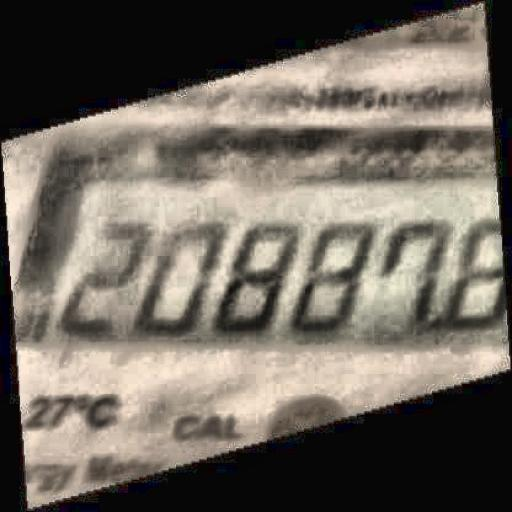DISPLAY_REGION: (0, 118, 511, 364)
SERIAL_REGION: (64, 217, 511, 336)
